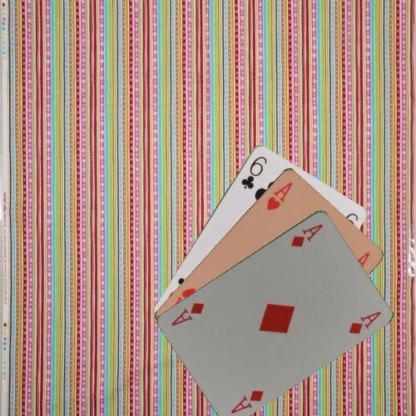6c: (238, 153, 268, 190)
Ad: (228, 387, 265, 414), (288, 221, 324, 248)
Ah: (264, 179, 294, 212)
